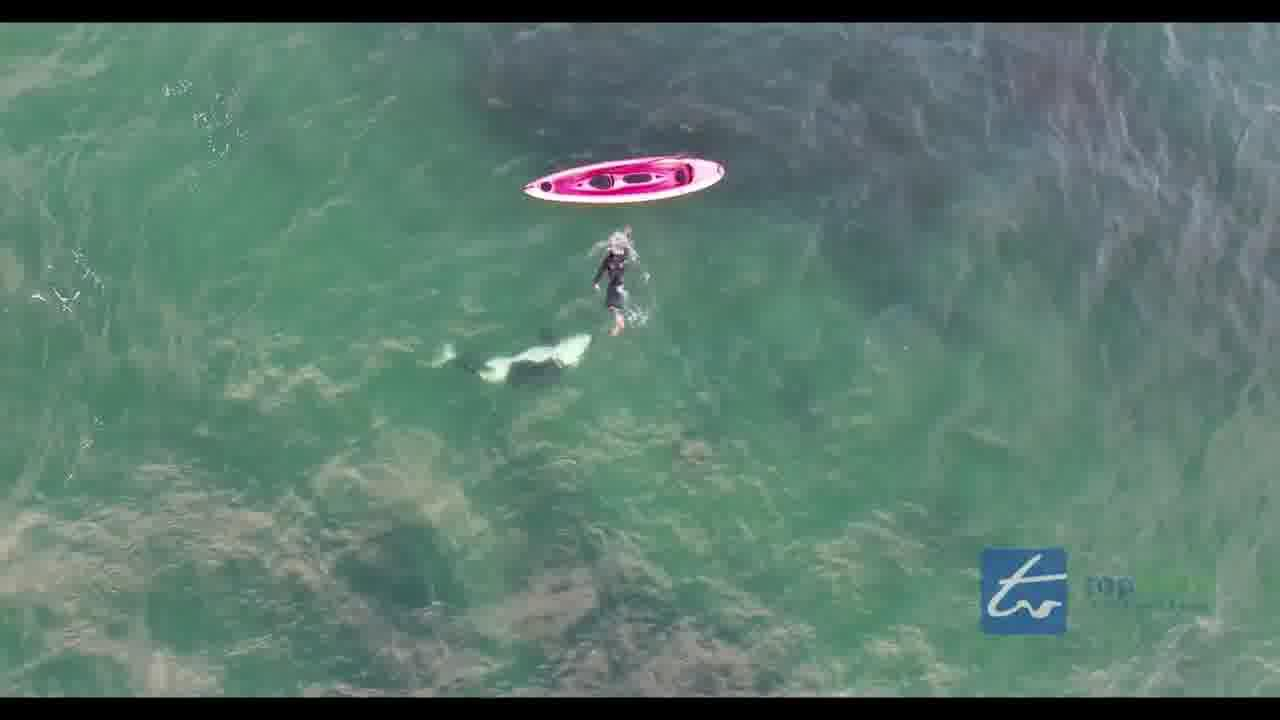human: (591, 232, 649, 335)
